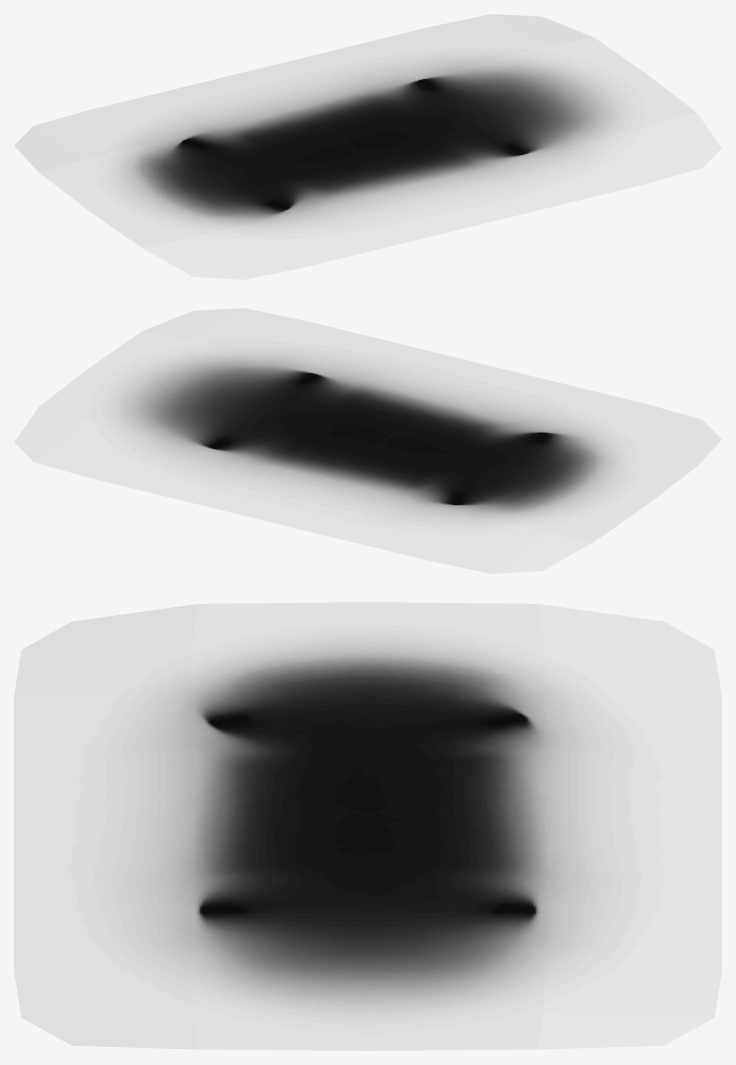
File: ViperShadow.obj
3 views of the same model, one above another, from view 1: azimuth 30°, elevation 25°; view 2: azimuth 150°, elevation 25°; view 3: azimuth 270°, elevation 25° (orthographic). The views are drawn at different scales.
Visible parts, largest first — view 1: ViperShadow; view 2: ViperShadow; view 3: ViperShadow.
Boxes of the visible parts, bbox=[...] form: ViperShadow: bbox=[14, 14, 721, 279]; ViperShadow: bbox=[14, 308, 721, 573]; ViperShadow: bbox=[14, 602, 721, 1050].
Bounding box in the file's own units: 5.69 × 0.0437 × 3.79.
Materials: 1 (1 with a texture image).
